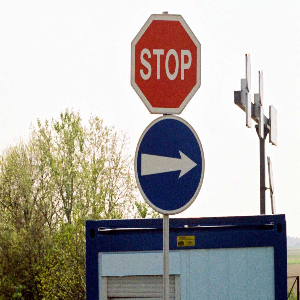STOP_SIGN: (130, 14, 201, 114)
